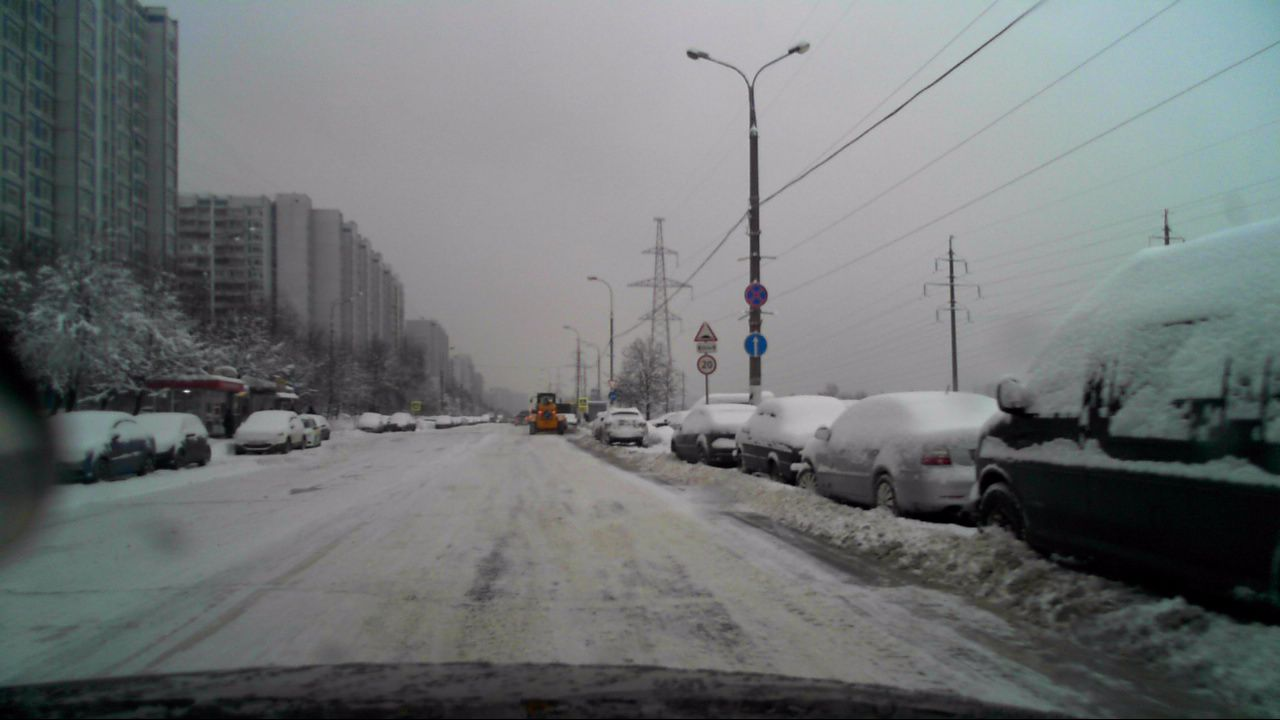No Parking: (742, 280, 769, 308)
